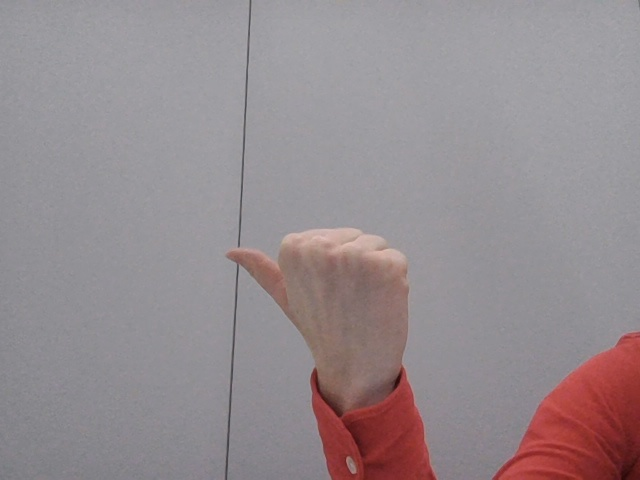right: (196, 205, 444, 433)
